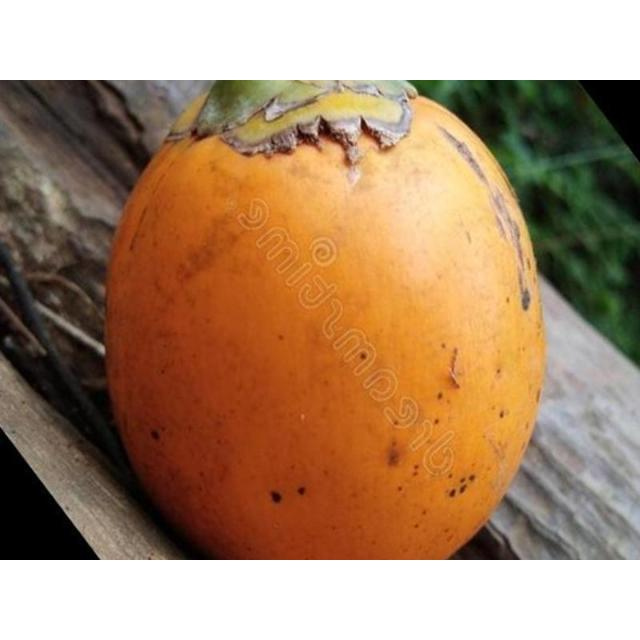good: (103, 80, 550, 559)
